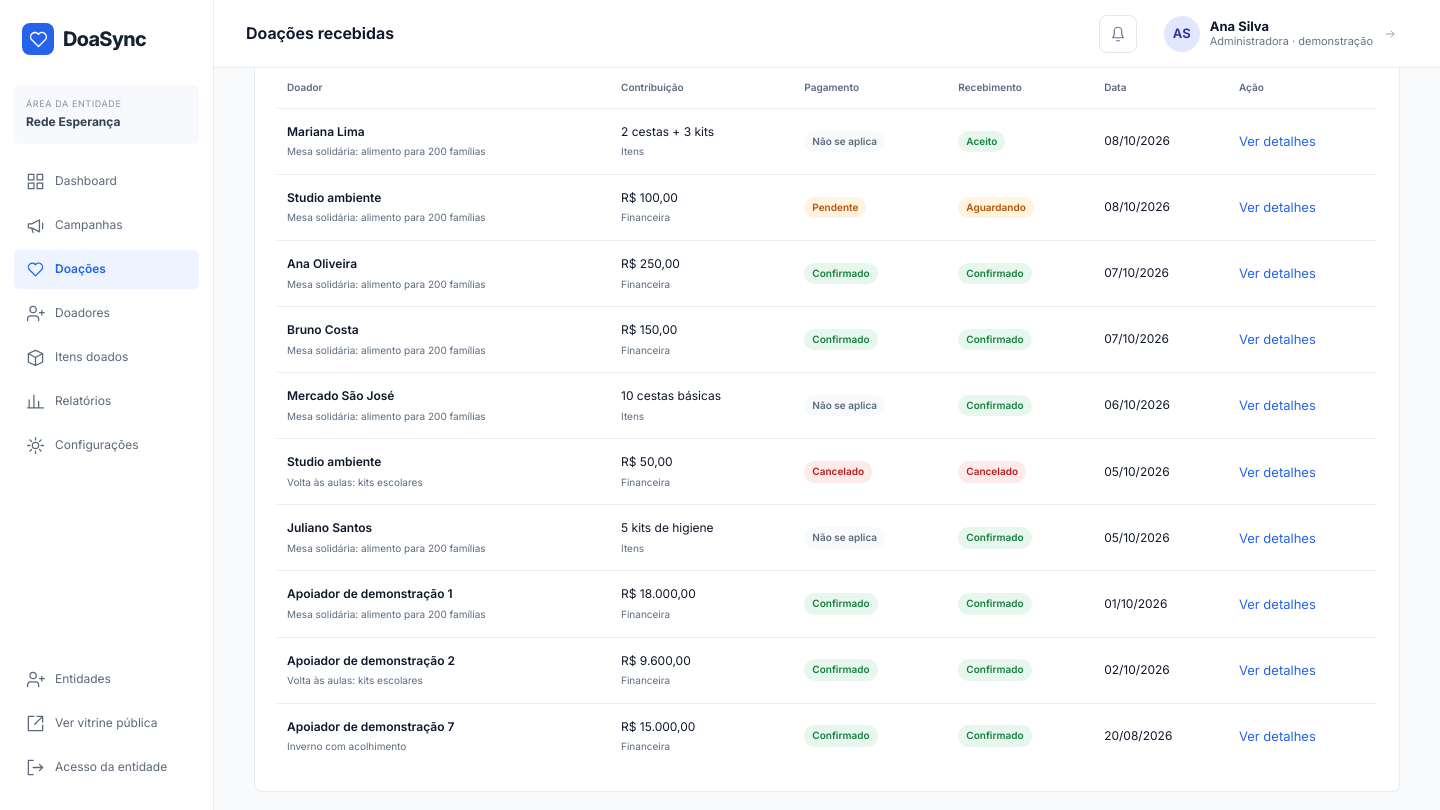
Test case: gestão de doações recebidas (DEV-DOA) › itens já confirmados informam que o recebimento foi processado; o modal fecha pelo botão
(page scrolled)
Click the button with aria-label "Ver doação 5 de Mercado São José".
click(1277, 405)  # box [1239, 395, 1316, 416]
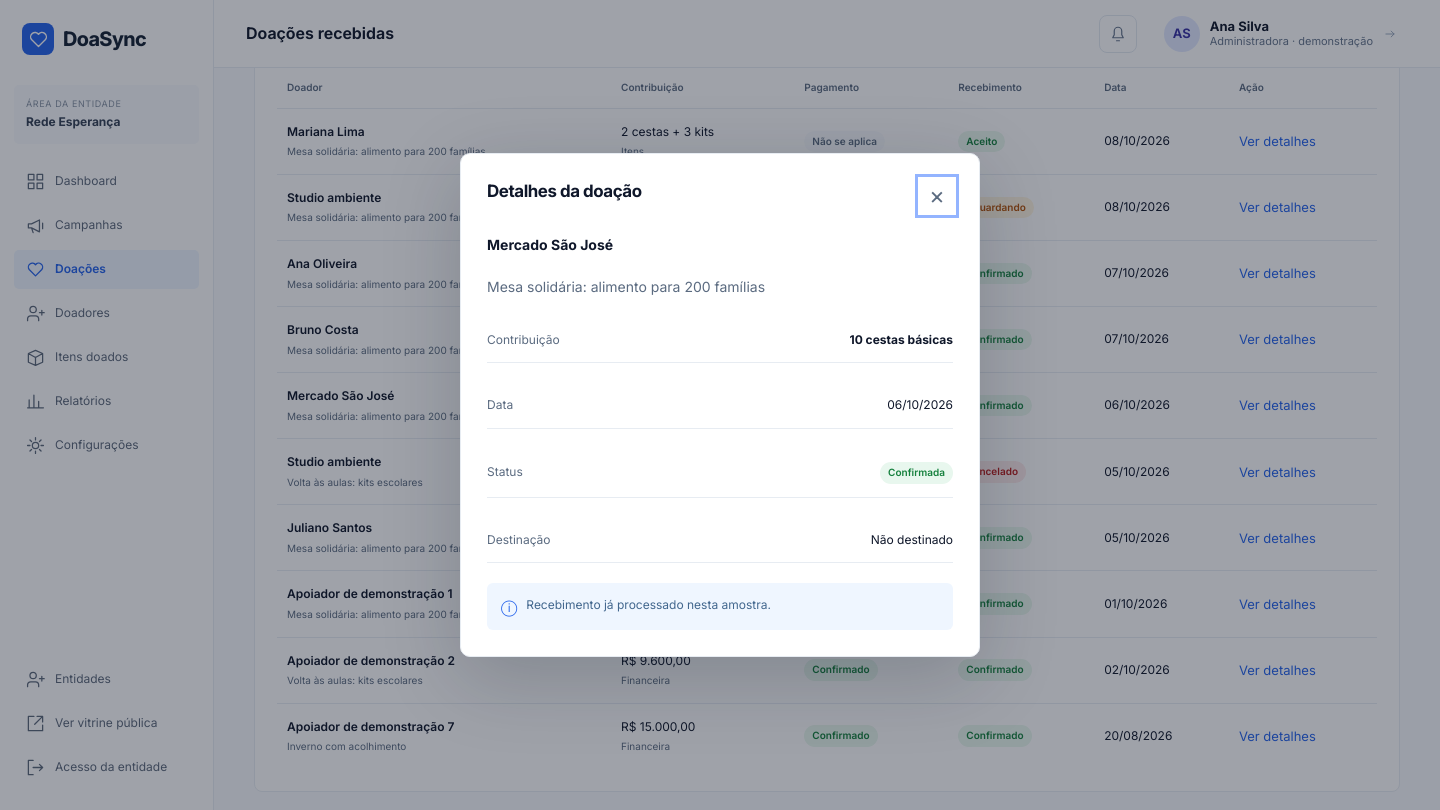
Expected: the text "Recebimento já processado nesta amostra." is shown, [526, 595, 771, 615]
Click the button named "Fechar".
click(937, 196)  # box [921, 180, 953, 212]
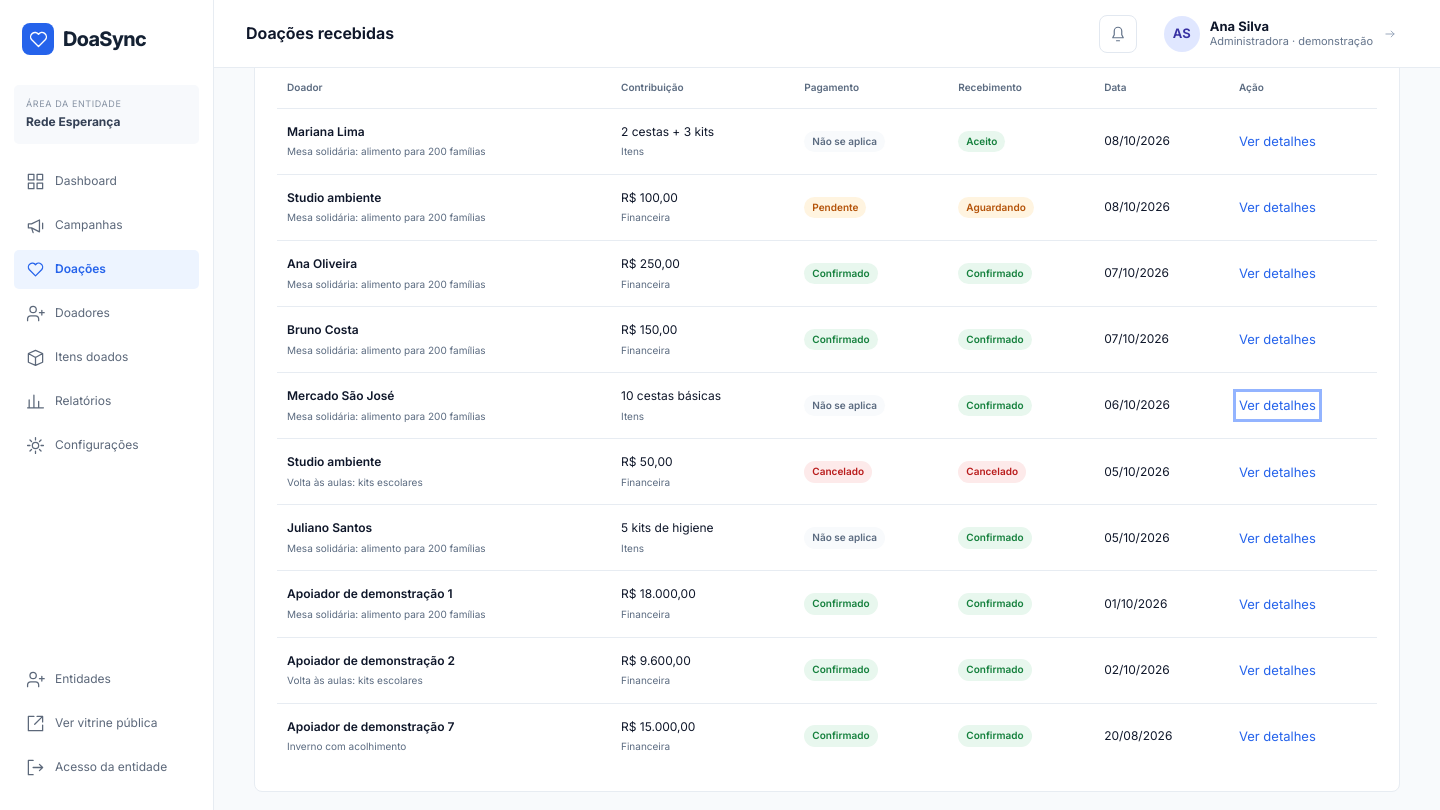
Expected: the dialog is gone
